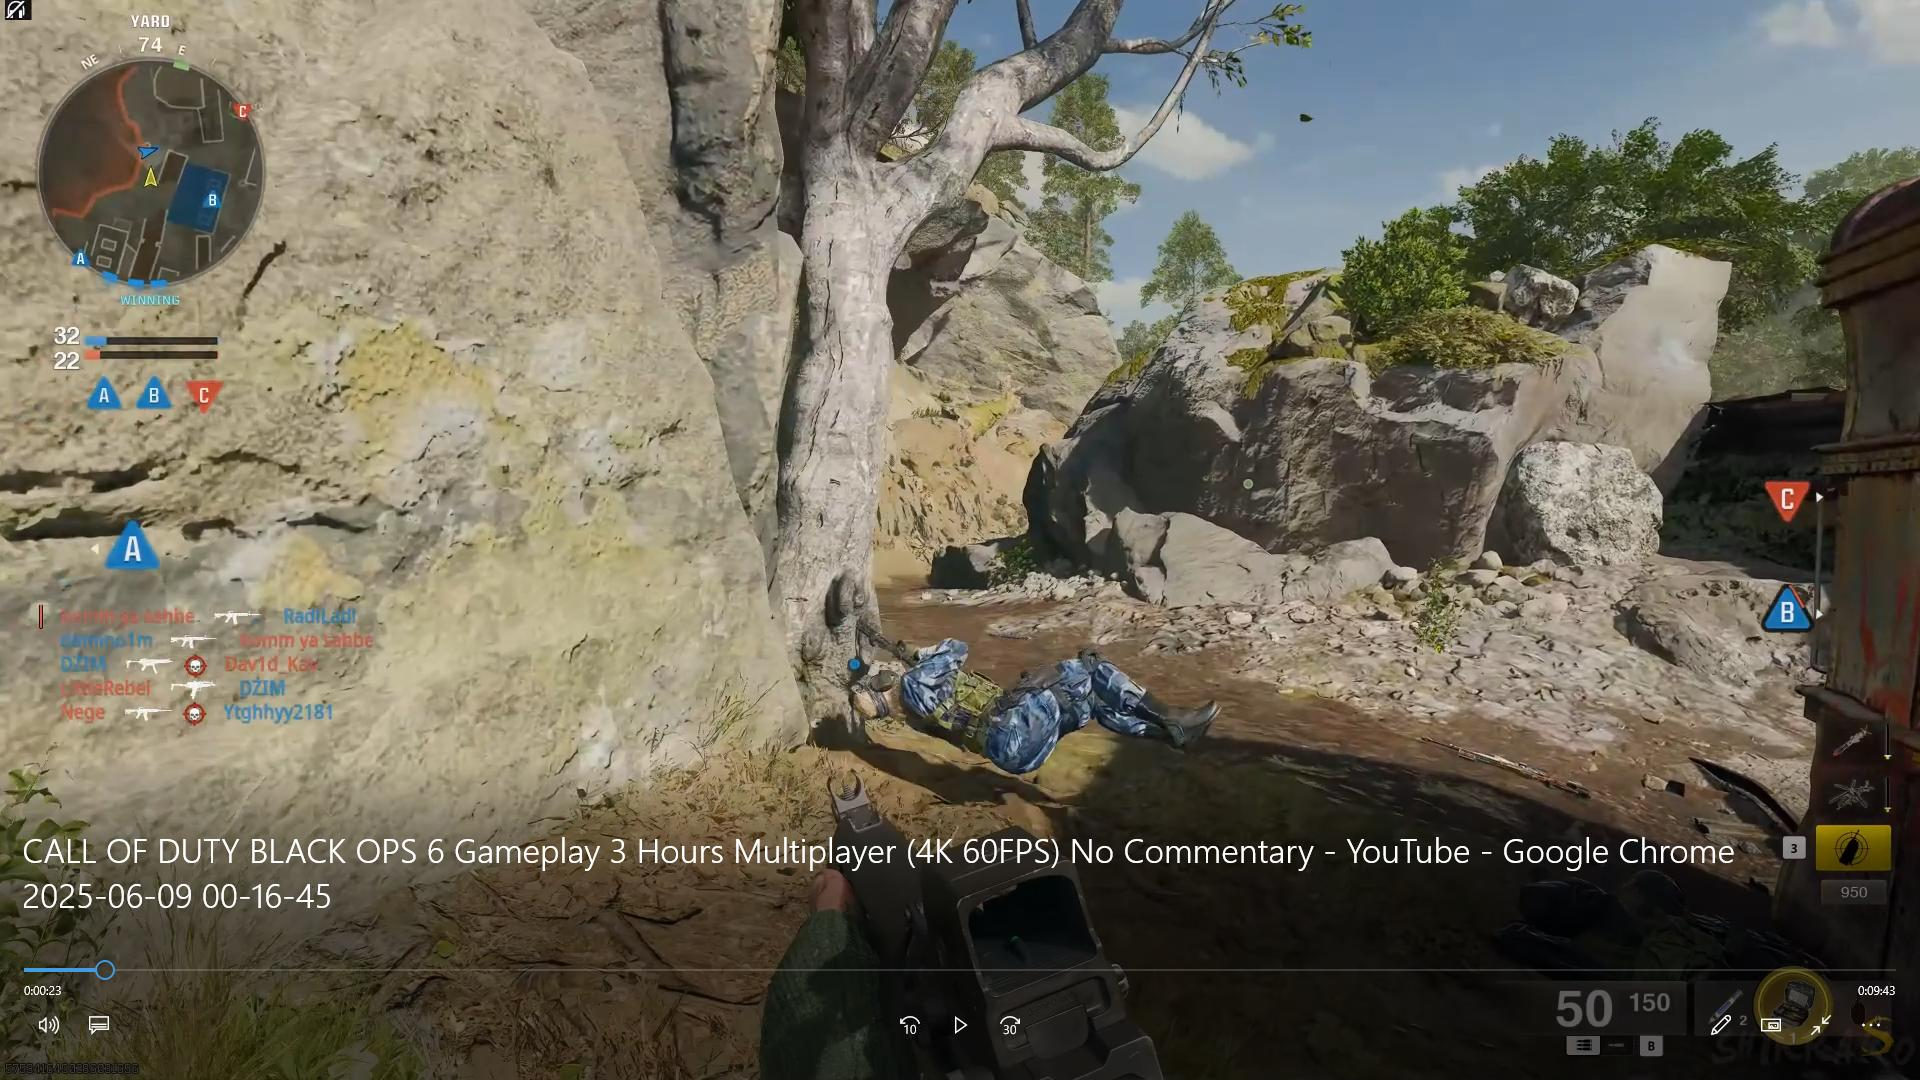Enemy: (835, 630, 1242, 783)
